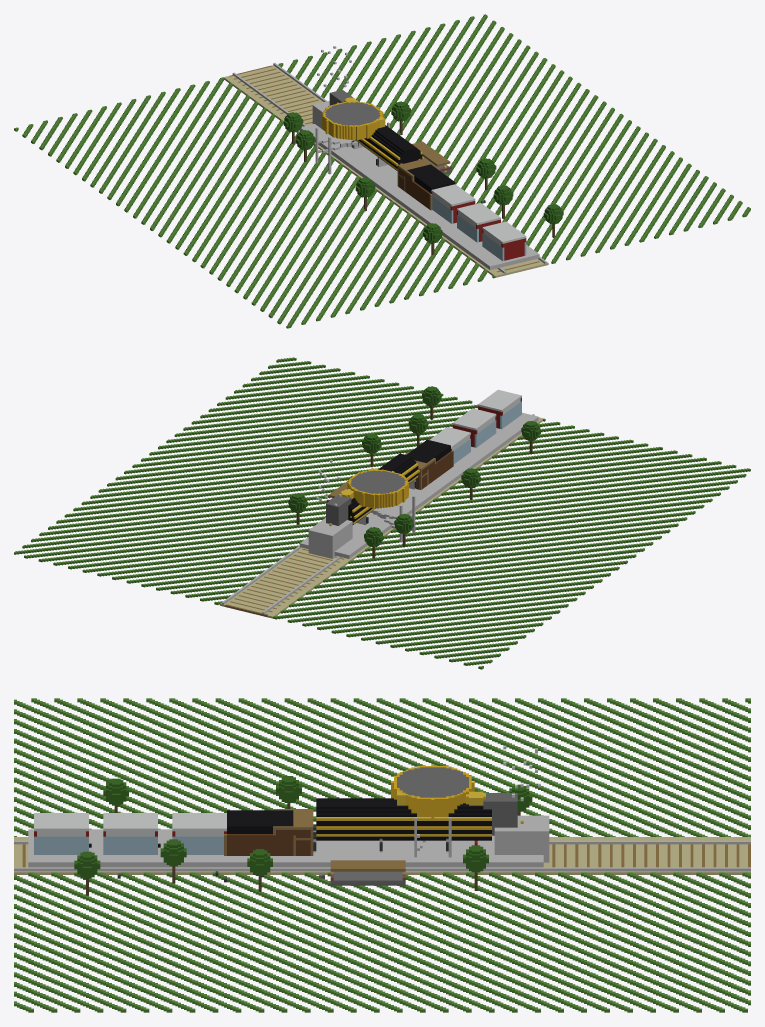
The picture shows the model from 3 angles, top to bottom: view 1: azimuth 30°, elevation 25°; view 2: azimuth 150°, elevation 25°; view 3: azimuth 270°, elevation 25°; orthographic projection. The views are drawn at different scales.
Bounding box in the file's own units: 256 × 44 × 256.
